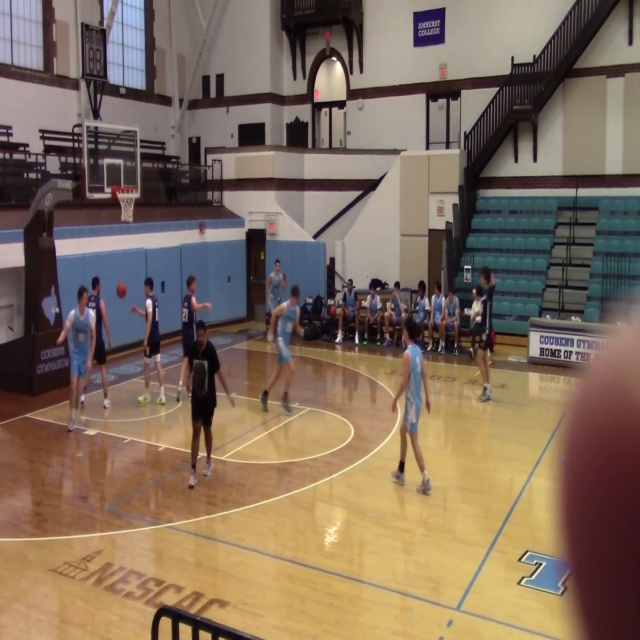Basketball: (116, 281, 126, 298), (137, 394, 150, 405)
